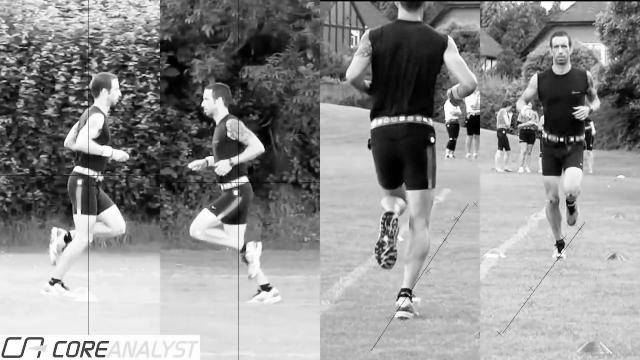berlari: (179, 77, 291, 303), (514, 28, 604, 272), (40, 67, 128, 309)
